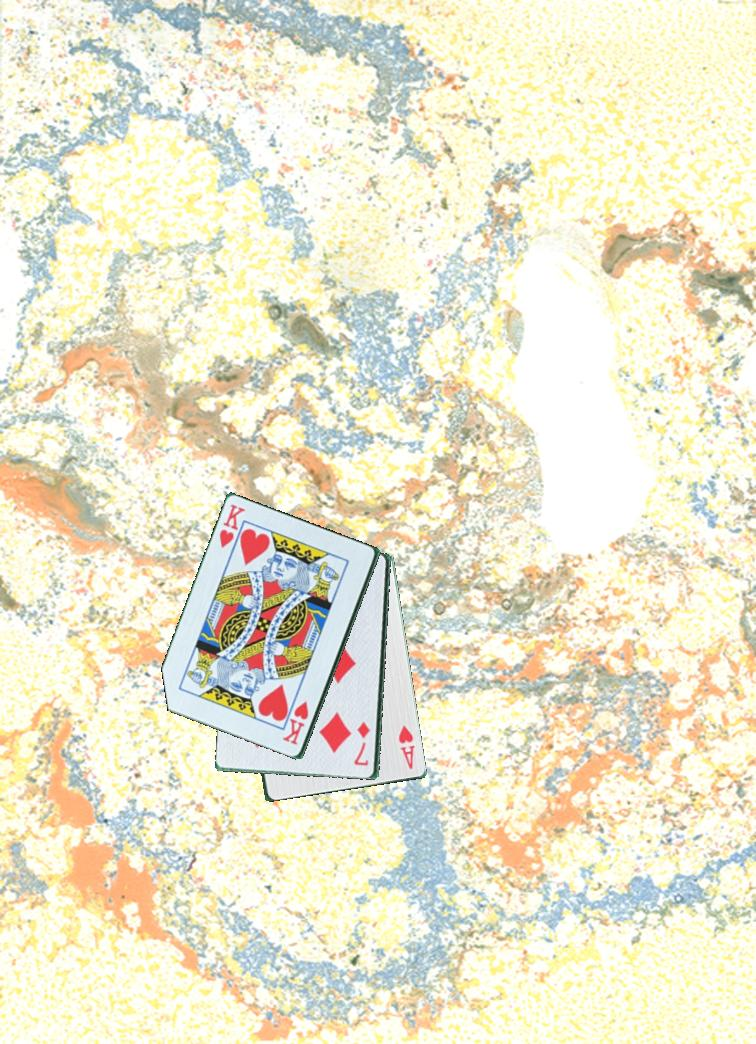7d: (353, 716, 373, 769)
ah: (395, 722, 418, 772)
kh: (216, 501, 249, 551), (281, 696, 312, 748)
